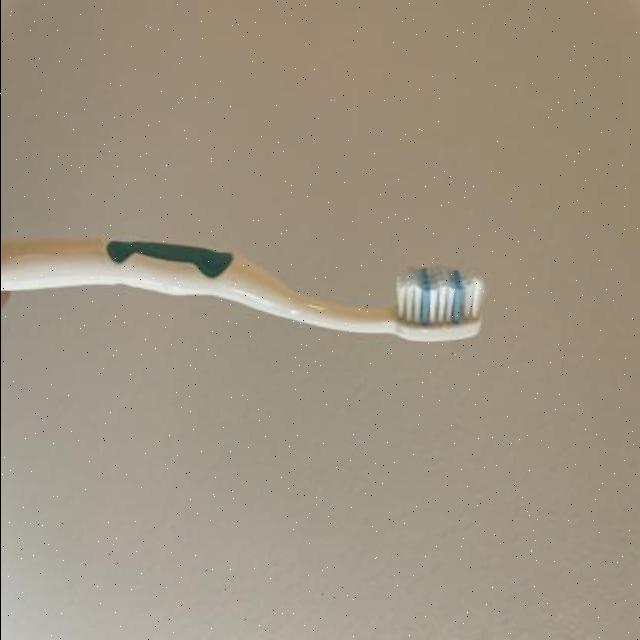toothbrush: (1, 222, 496, 350)
